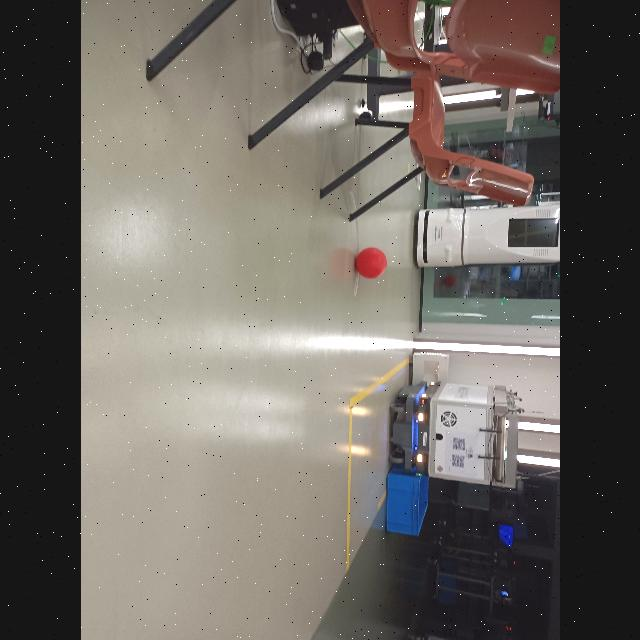R: (354, 247, 386, 281)
